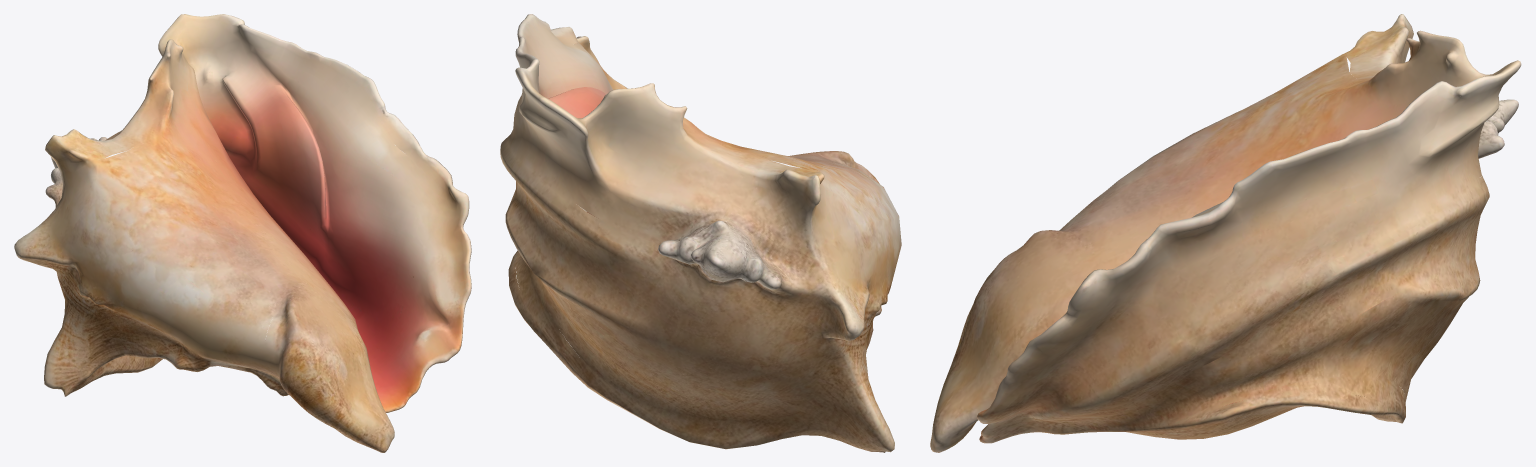
File: conch.glb
The picture shows the model from 3 angles, left to right: view 1: azimuth 30°, elevation 25°; view 2: azimuth 150°, elevation 25°; view 3: azimuth 270°, elevation 25°; orthographic projection. The views are drawn at different scales.
Parts seen in each view (by area): view 1: d2e9b6a5_5fee_4198_80cf_e4ce2faecff0; view 2: d2e9b6a5_5fee_4198_80cf_e4ce2faecff0; view 3: d2e9b6a5_5fee_4198_80cf_e4ce2faecff0.
Part boxes in pixels (bbox=[...]): d2e9b6a5_5fee_4198_80cf_e4ce2faecff0: bbox=[14, 14, 471, 452]; d2e9b6a5_5fee_4198_80cf_e4ce2faecff0: bbox=[500, 14, 901, 452]; d2e9b6a5_5fee_4198_80cf_e4ce2faecff0: bbox=[930, 14, 1521, 452].
Bounding box in the file's own units: 0.9146 × 0.7661 × 0.9995.
Materials: 1 (1 with a texture image).
